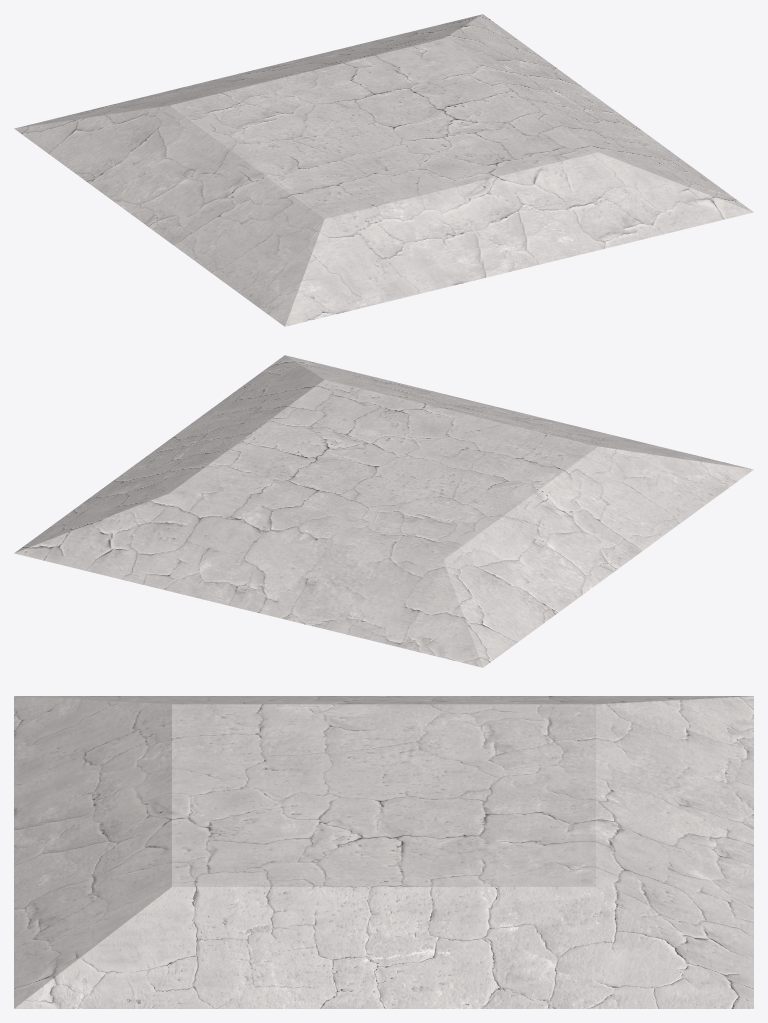
The model's file is Ceiling_B.fbx.
3 views of the same model, one above another, from view 1: azimuth 30°, elevation 25°; view 2: azimuth 150°, elevation 25°; view 3: azimuth 270°, elevation 25° (orthographic). The views are drawn at different scales.
Parts seen in each view (by area): view 1: Ceiling_B; view 2: Ceiling_B; view 3: Ceiling_B.
Part boxes in pixels (box(x1,y1,x2,y2)): Ceiling_B: box(14, 14, 753, 326); Ceiling_B: box(14, 355, 753, 667); Ceiling_B: box(14, 696, 753, 1008).
Bounding box in the file's own units: 2.7 × 0.2288 × 2.7.
